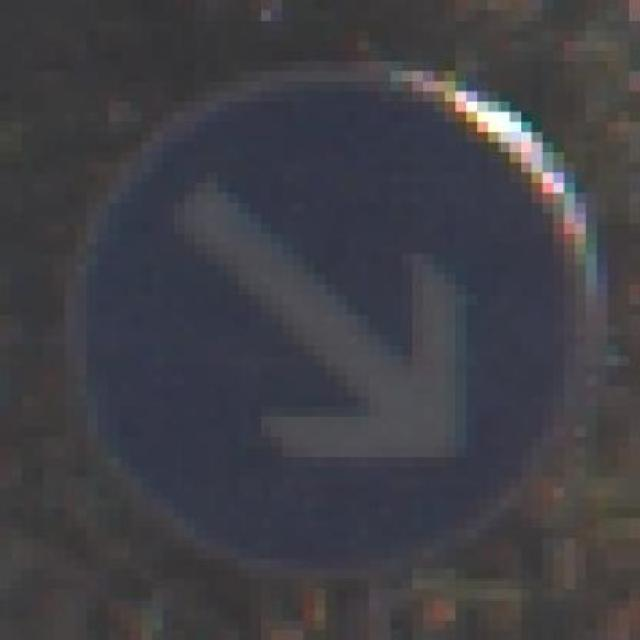Keep-Right: (32, 40, 608, 589)
